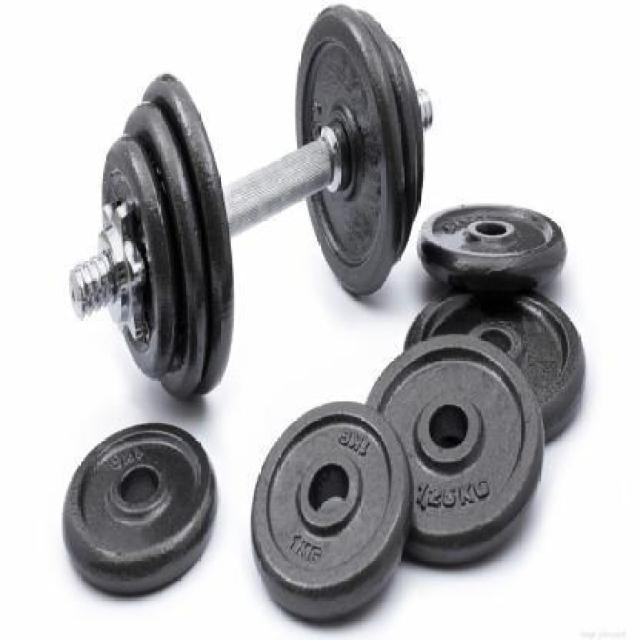barbell: (61, 123, 184, 392)
